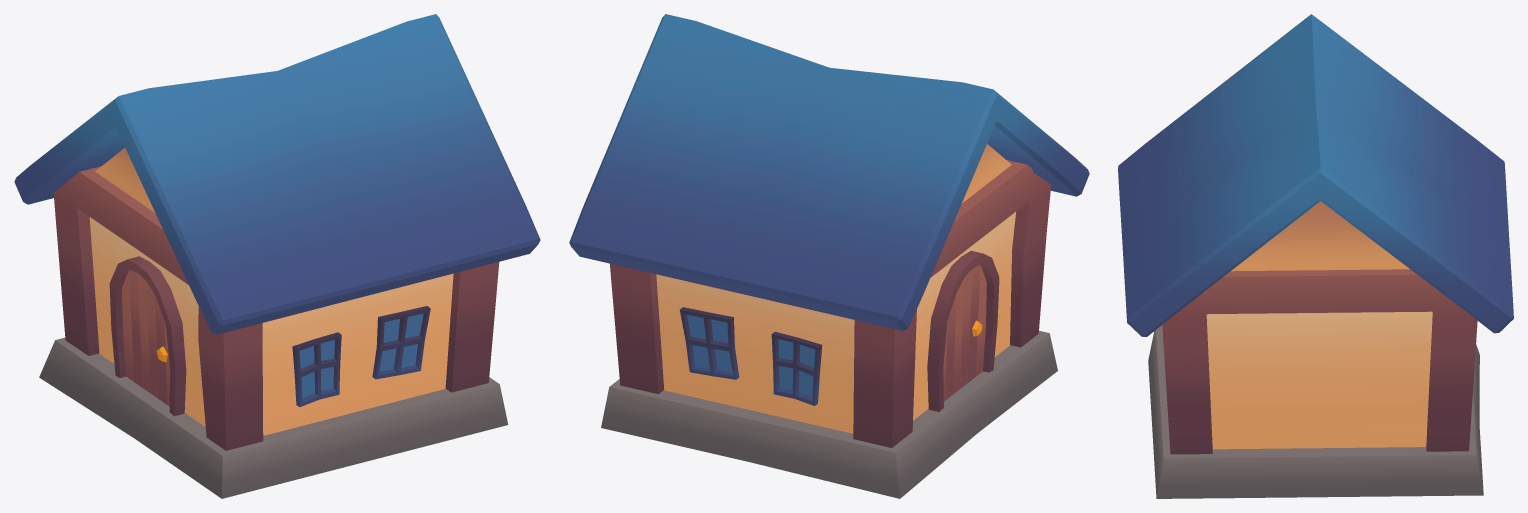
The model's file is house_blue.glb.
The picture shows the model from 3 angles, left to right: view 1: azimuth 30°, elevation 25°; view 2: azimuth 150°, elevation 25°; view 3: azimuth 270°, elevation 25°; orthographic projection. The views are drawn at different scales.
Parts seen in each view (by area): view 1: House_Blue.001_Material.005_0; view 2: House_Blue.001_Material.005_0; view 3: House_Blue.001_Material.005_0.
Part boxes in pixels (x1,y1,x2,y2): House_Blue.001_Material.005_0: [14, 14, 540, 498]; House_Blue.001_Material.005_0: [569, 14, 1089, 498]; House_Blue.001_Material.005_0: [1118, 14, 1513, 498].
Bounding box in the file's own units: 3.86 × 3.81 × 4.04.
Materials: 1 (1 with a texture image).
